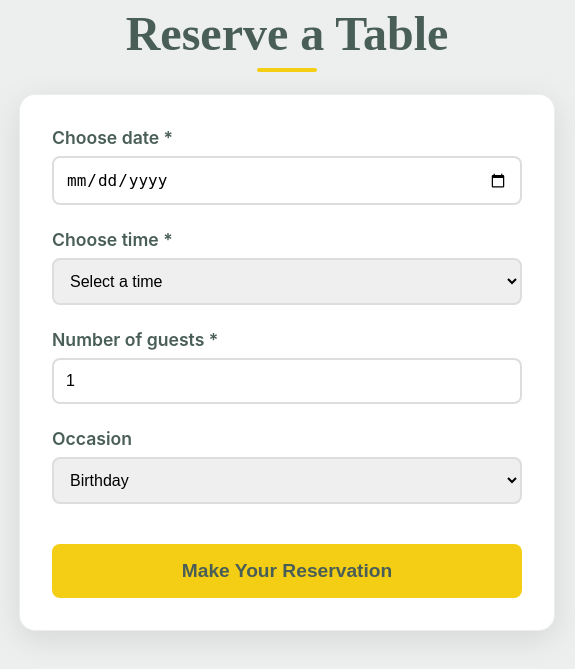
Test case: BookingForm › validates guest count range
# Test invalid low value
Step 1. Replace the text in the number field labelled "Number of guests *" with "0" → (287, 381), box left=52, top=358, right=522, bottom=404
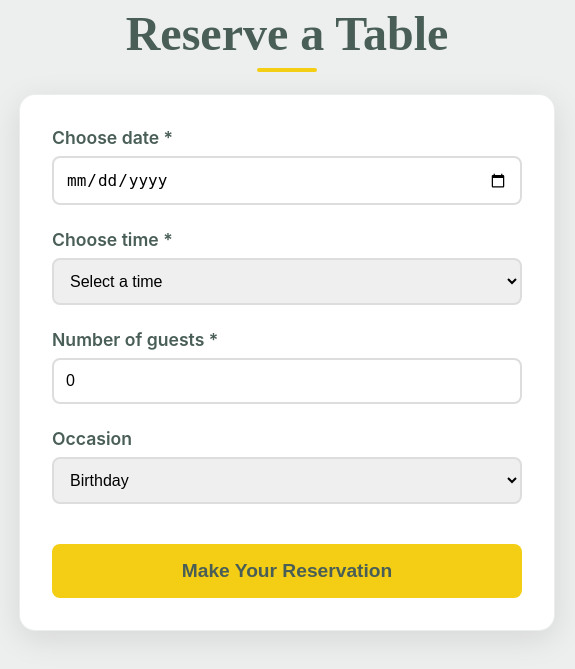
Step 2. Click the button with aria-label "submit reservation request" → (287, 571), box left=52, top=544, right=522, bottom=598
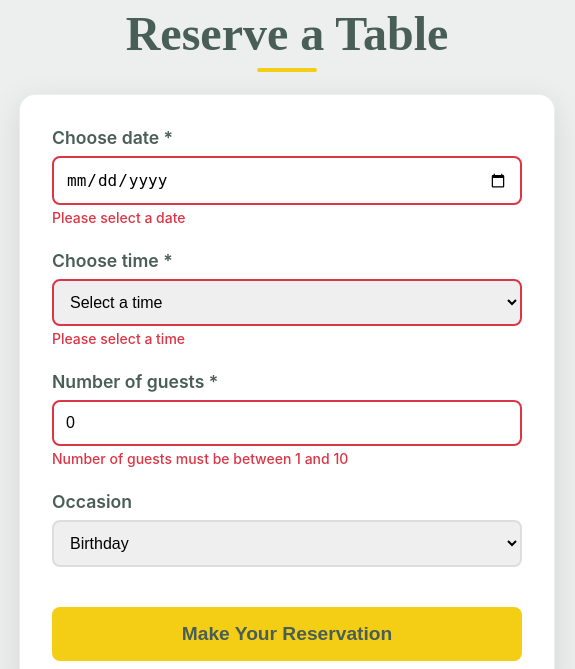
Check: the text "Number of guests must be between 1 and 10" is shown, box left=52, top=450, right=348, bottom=467
# Test invalid high value
Step 3. Replace the text in the number field labelled "Number of guests *" with "15" → (287, 423), box left=52, top=400, right=522, bottom=446
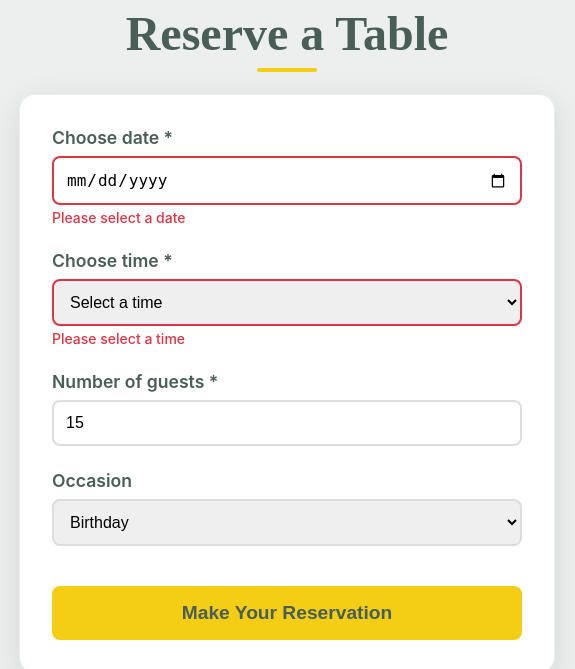
Step 4. Click the button with aria-label "submit reservation request" → (287, 613), box left=52, top=586, right=522, bottom=640
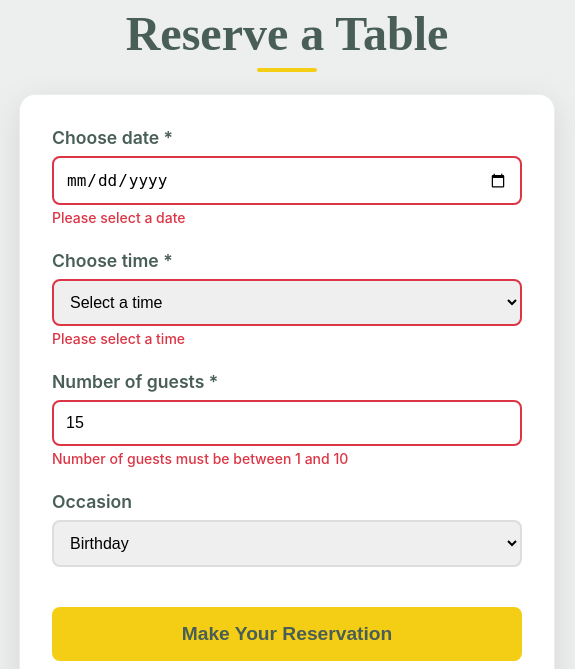
Check: the text "Number of guests must be between 1 and 10" is shown, box left=52, top=450, right=348, bottom=467
